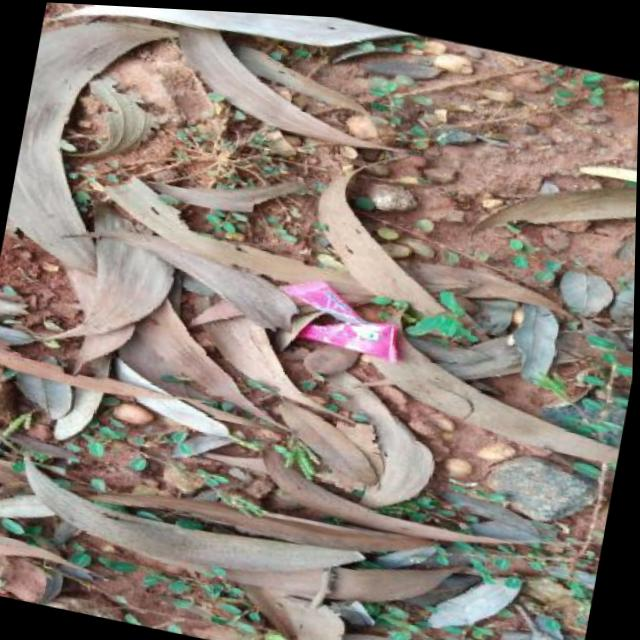plastic: (274, 271, 411, 366)
